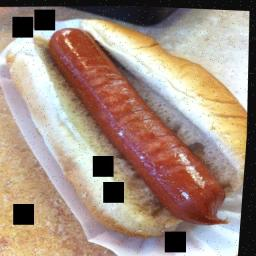hotdog: (140, 94, 237, 245), (99, 52, 153, 181), (44, 25, 108, 98)
